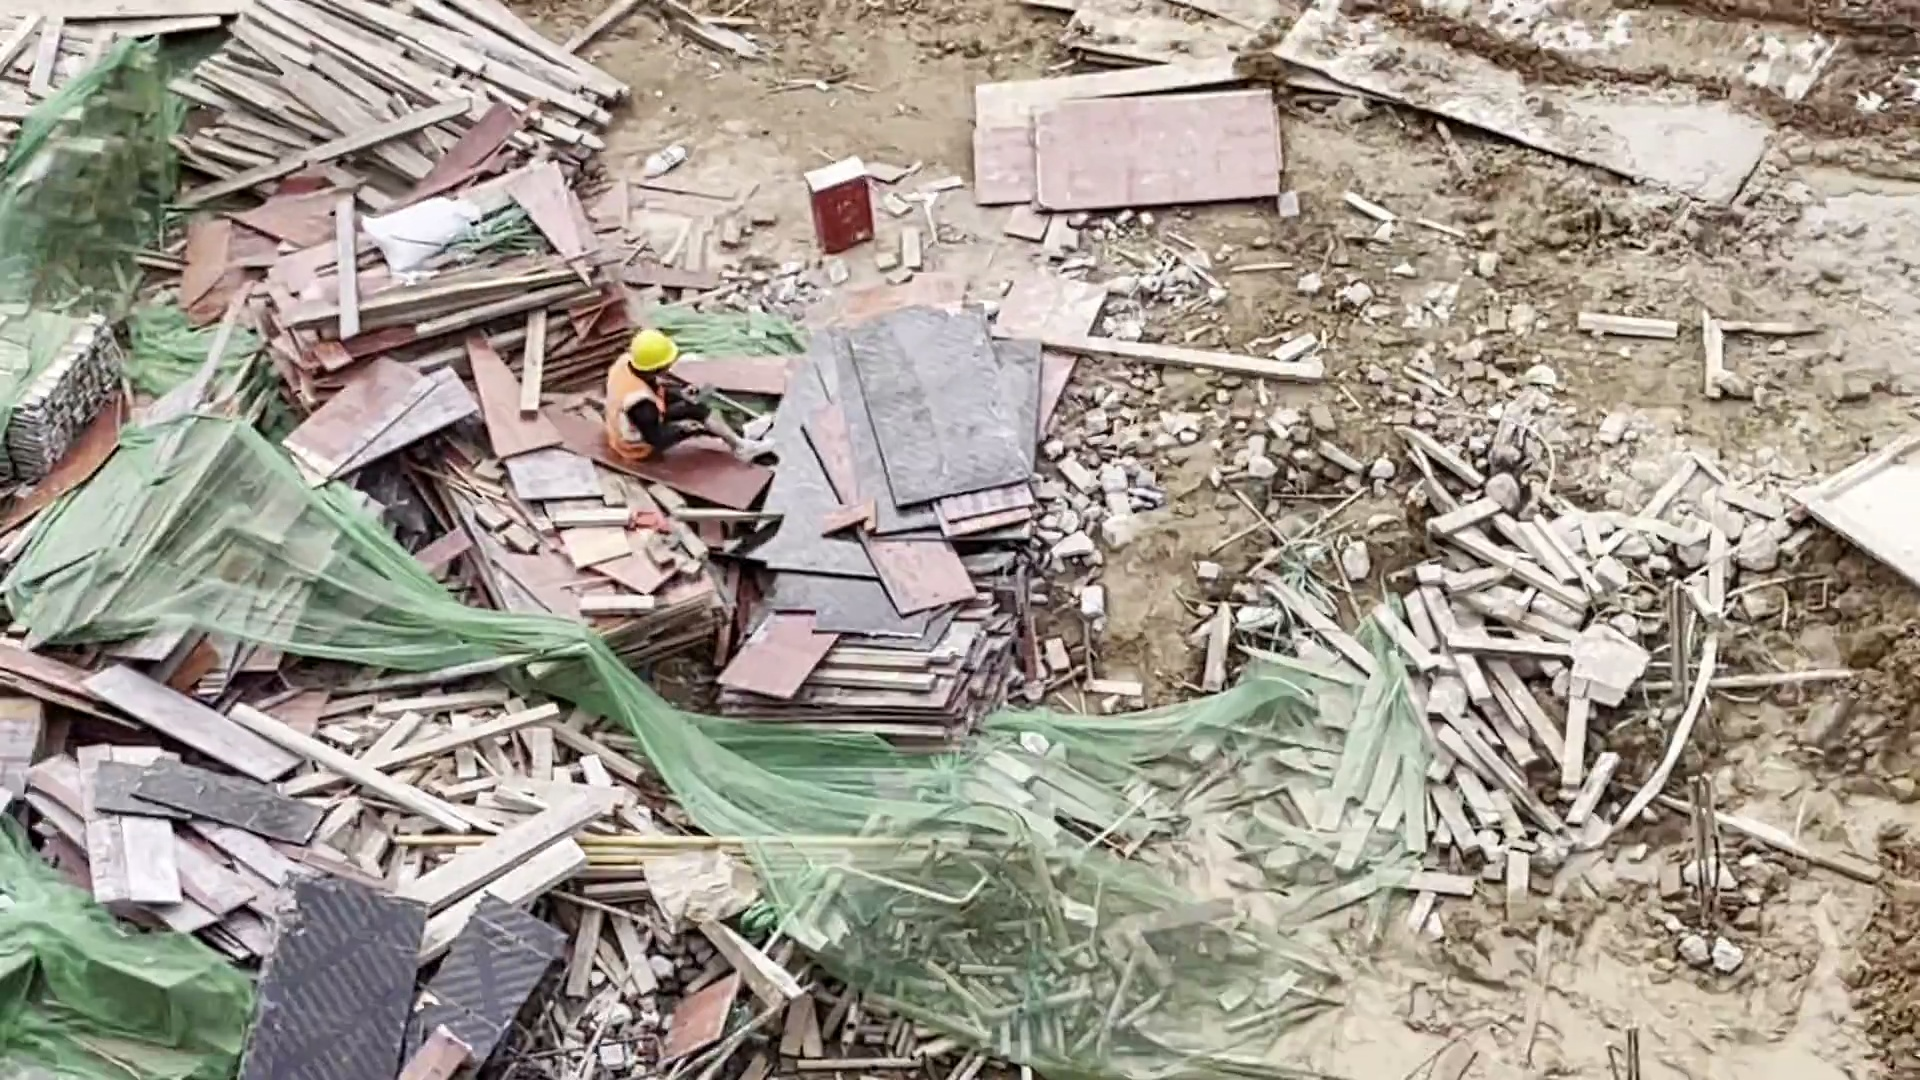board: (758, 313, 1001, 765)
helmet: (629, 328, 674, 372)
person: (596, 328, 774, 468)
vest: (611, 358, 659, 452)
